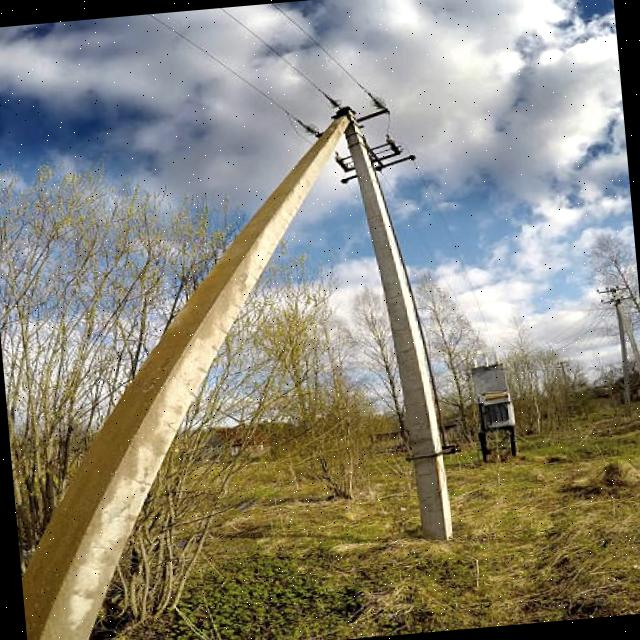Broken Pole: (20, 108, 360, 640)
